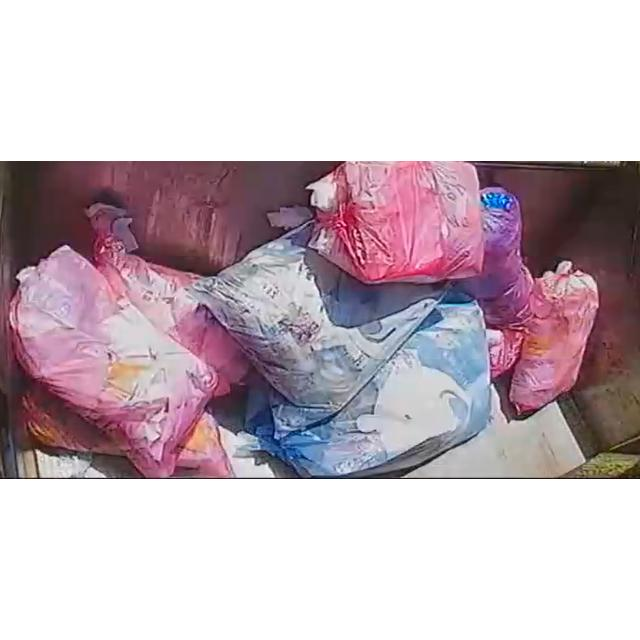other_trashbag: (194, 221, 444, 437), (10, 246, 218, 477), (279, 302, 490, 476), (85, 202, 249, 395), (308, 161, 484, 284), (509, 261, 599, 413), (458, 187, 532, 328)
